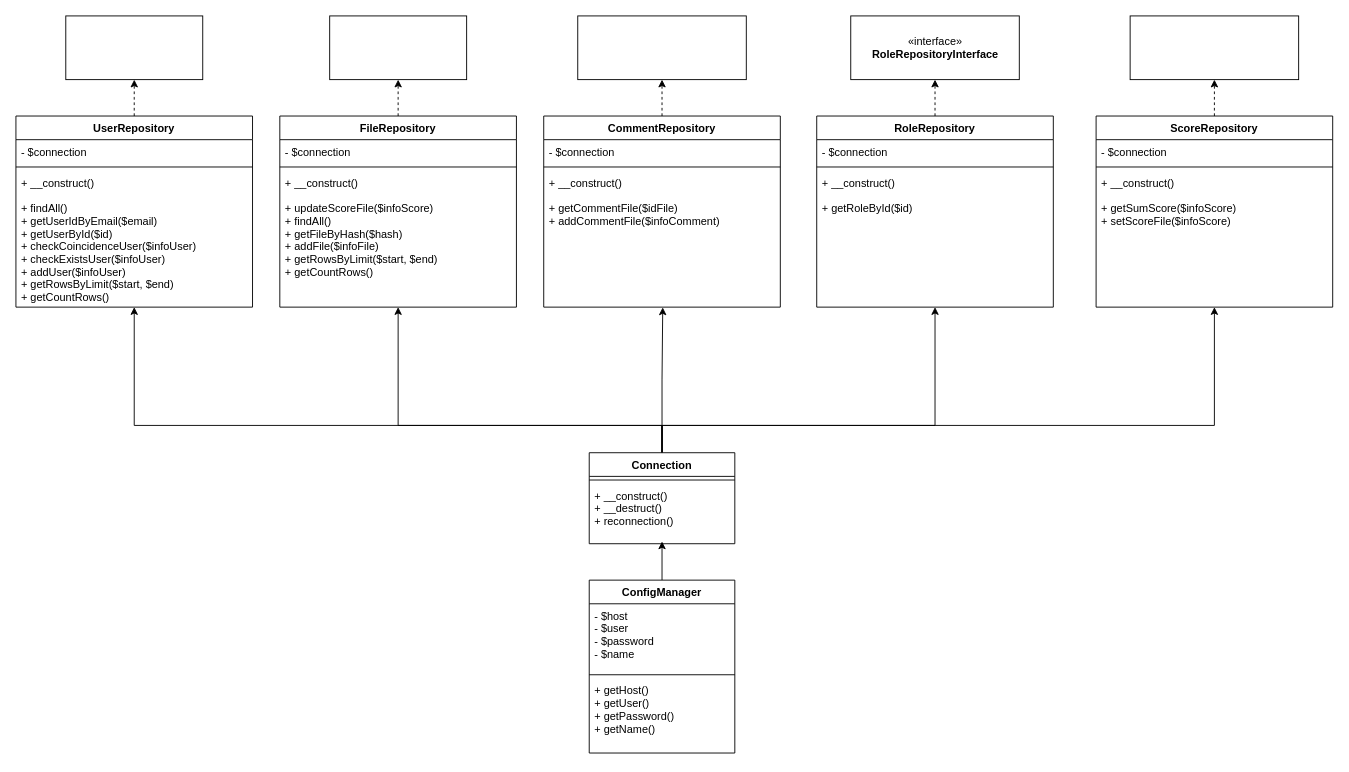
This 1349x772 diagram has some shape labels left out. The shapes that lost their labels are listed below. From the top down, each one's centre as x and y in pixels, then its label:
At (x=134, y=47): "«interface» UserRepository Interface".
At (x=398, y=47): "«interface» FileRepository Interface".
At (x=661, y=47): "«interface» CommentRepository Interface".
At (x=1214, y=47): "«interface» ScoreRepository Interface".
